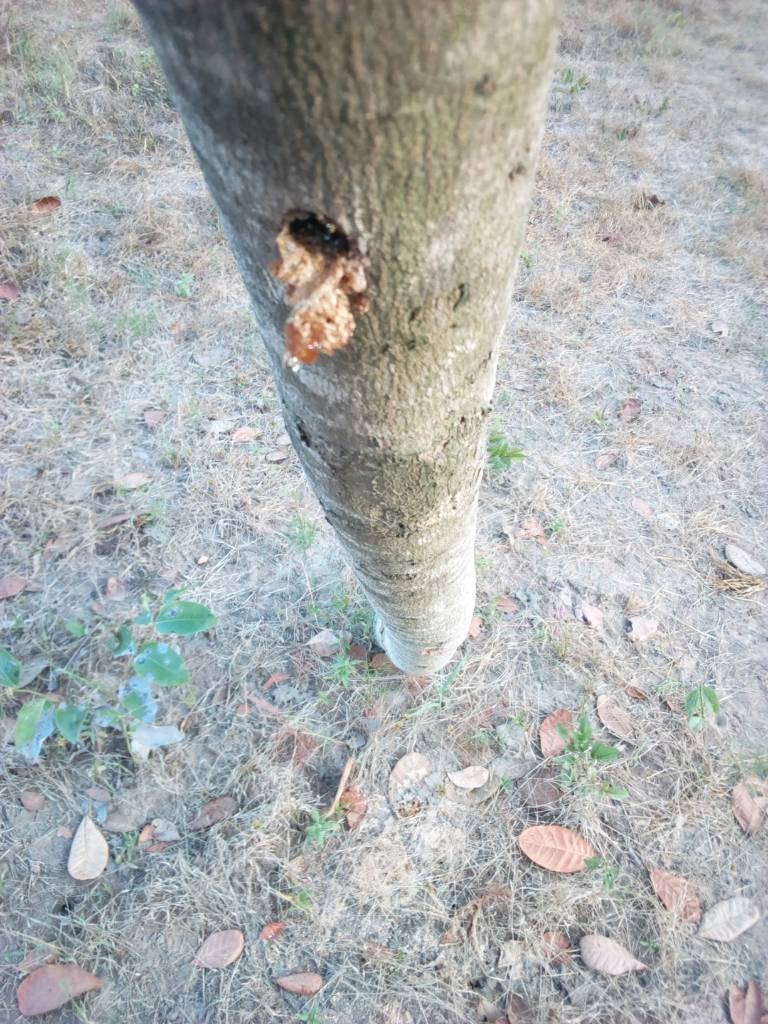Apate terebrans: (202, 114, 466, 389)
